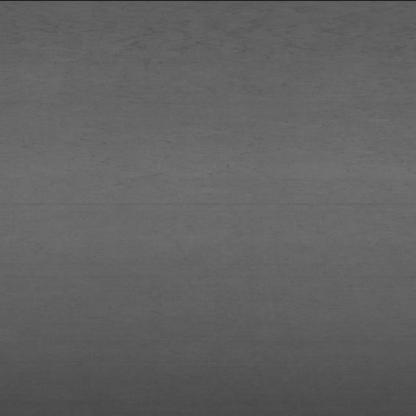silk_spot: (22, 14, 402, 186)
